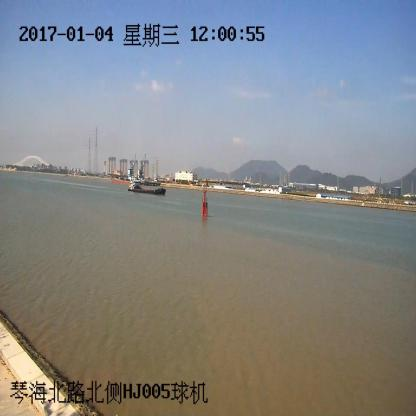Bulk Carrier: (128, 178, 166, 196)
